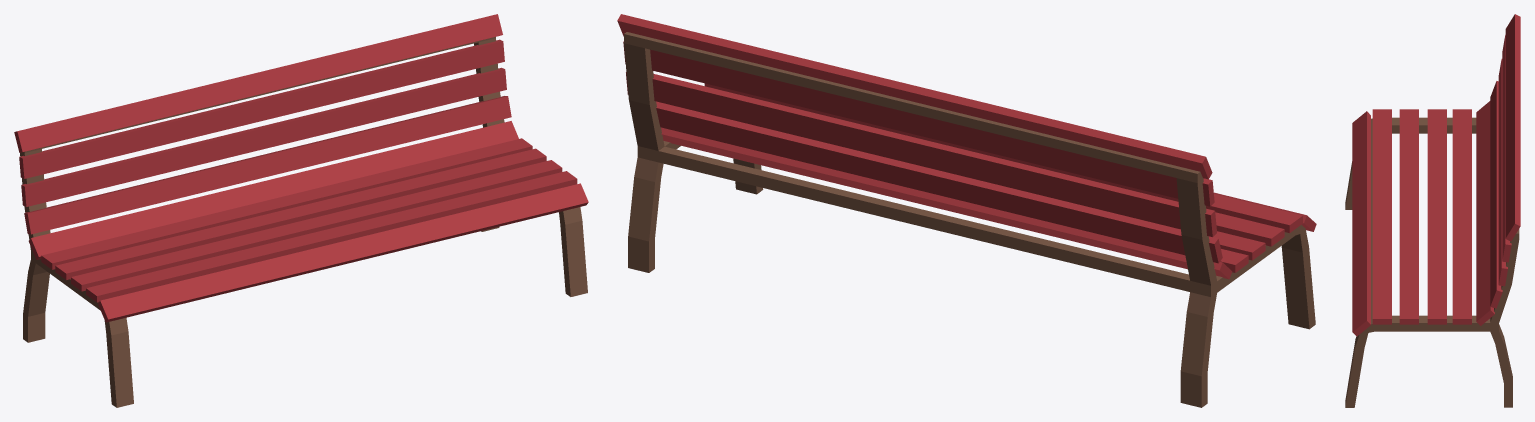
File: Bench.fbx
The picture shows the model from 3 angles, left to right: view 1: azimuth 30°, elevation 25°; view 2: azimuth 150°, elevation 25°; view 3: azimuth 270°, elevation 25°; orthographic projection. The views are drawn at different scales.
Visible parts, largest first — view 1: Bench; view 2: Bench; view 3: Bench.
Part boxes in pixels (bbox=[...]): Bench: bbox=[14, 14, 588, 407]; Bench: bbox=[617, 14, 1316, 407]; Bench: bbox=[1345, 14, 1520, 407].
Bounding box in the file's own units: 316 × 131 × 112.
